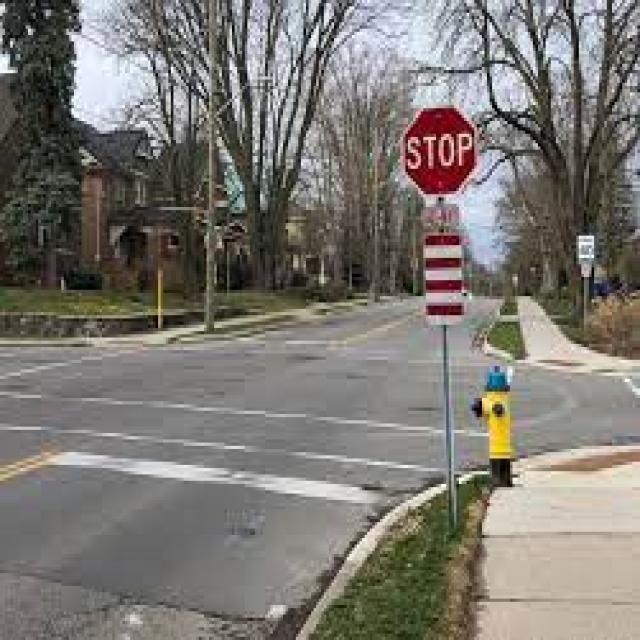Stop-Sign: (404, 109, 474, 196)
